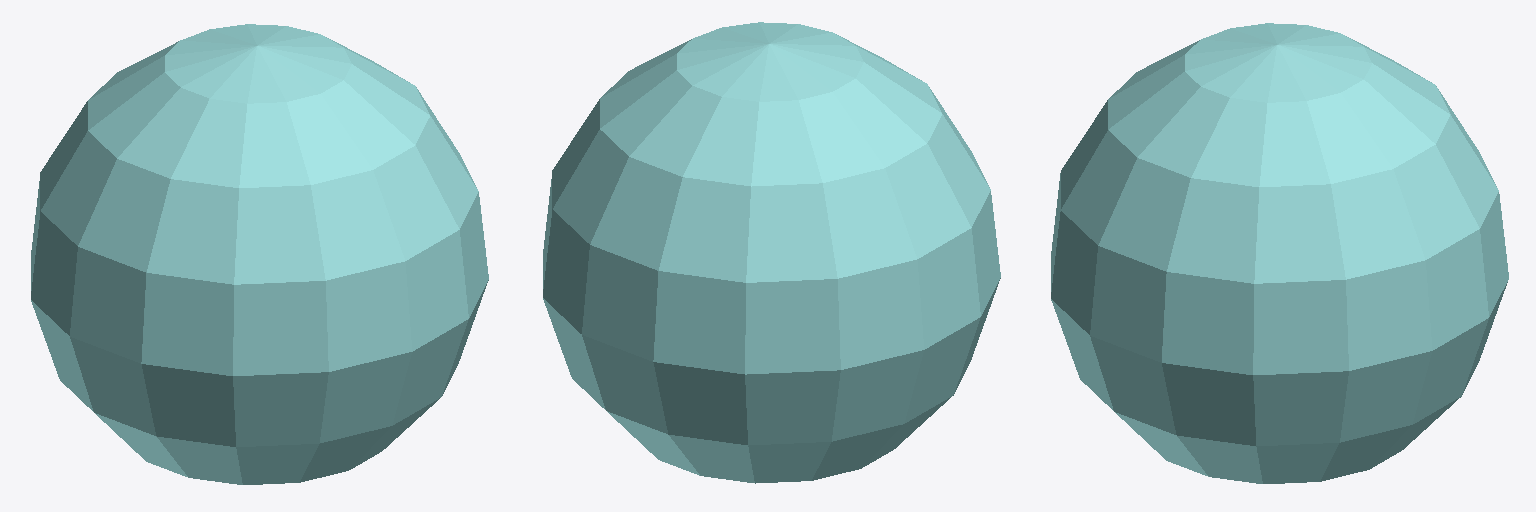
Rendered from spherelow.obj.
The picture shows the model from 3 angles: view 1: azimuth 30°, elevation 25°; view 2: azimuth 150°, elevation 25°; view 3: azimuth 270°, elevation 25°; orthographic projection.
Parts seen in each view (by area): view 1: S; view 2: S; view 3: S.
Boxes of the visible parts, x1=… form: S: x1=31, y1=24, x2=488, y2=484; S: x1=543, y1=22, x2=1000, y2=483; S: x1=1051, y1=23, x2=1508, y2=483.
Bounding box in the file's own units: 33.63 × 34 × 33.44.